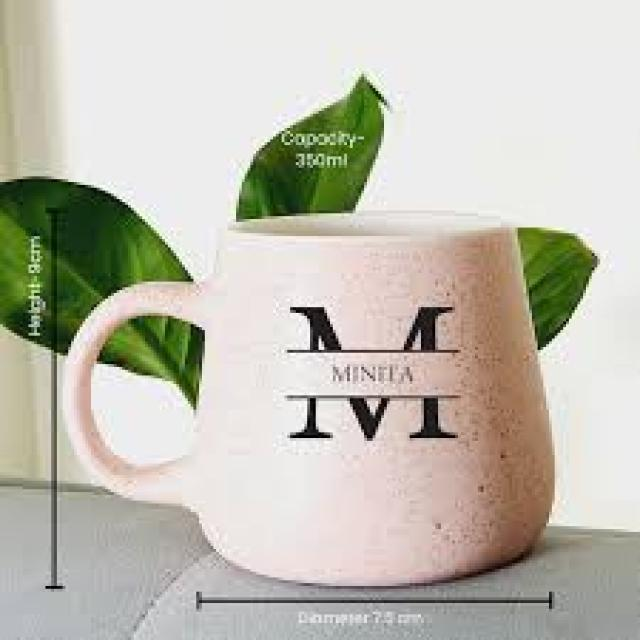taza: (63, 212, 555, 588)
